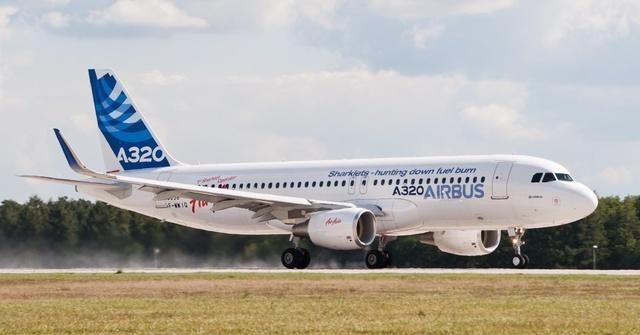airplane: (17, 69, 609, 269)
